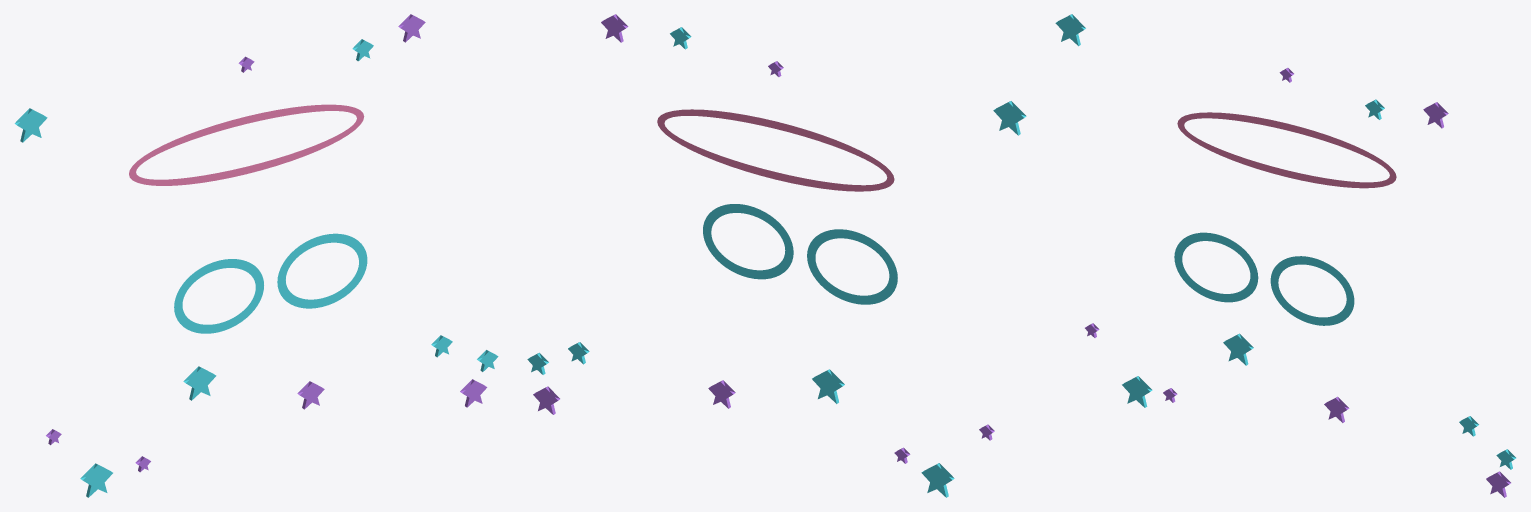
The model's file is neon-party.glb.
3 renders of one model, left to right at view 1: azimuth 30°, elevation 25°; view 2: azimuth 150°, elevation 25°; view 3: azimuth 330°, elevation 25°, orthographic. The views are drawn at different scales.
Visible parts, largest first — view 1: neon lens (×2), pink party halo, falling star (×3); view 2: neon lens (×2), pink party halo, falling star (×3); view 3: neon lens (×2), pink party halo, falling star (×3).
Part boxes in pixels (bbox=[...]): neon lens (×2): bbox=[174, 233, 367, 333]; pink party halo: bbox=[129, 104, 364, 185]; falling star (×3): bbox=[14, 108, 216, 497]; neon lens (×2): bbox=[703, 204, 897, 304]; pink party halo: bbox=[657, 109, 894, 191]; falling star (×3): bbox=[812, 101, 1026, 497]; neon lens (×2): bbox=[1174, 232, 1354, 325]; pink party halo: bbox=[1177, 112, 1396, 188]; falling star (×3): bbox=[1055, 14, 1253, 407].
Size of the model in its own units: 4.06 by 3.28 by 0.3675.
